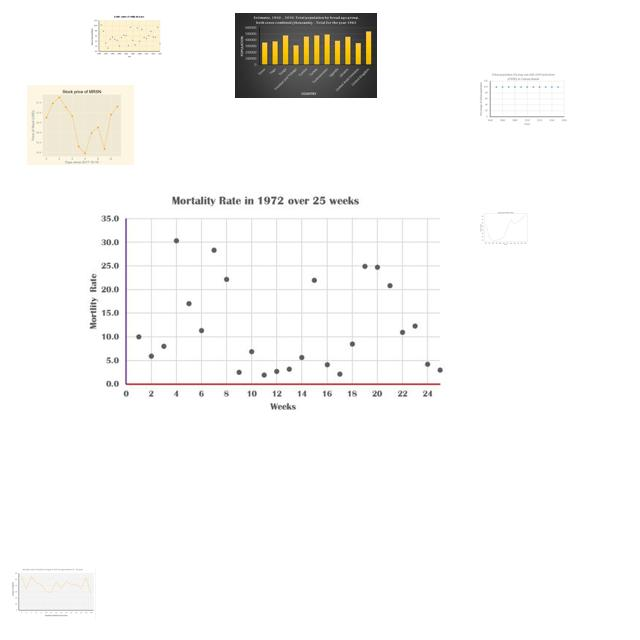Graph: (86, 192, 451, 417), (235, 13, 377, 98), (27, 85, 134, 165), (479, 72, 568, 126), (10, 567, 96, 619), (90, 15, 163, 60), (477, 208, 533, 247)
